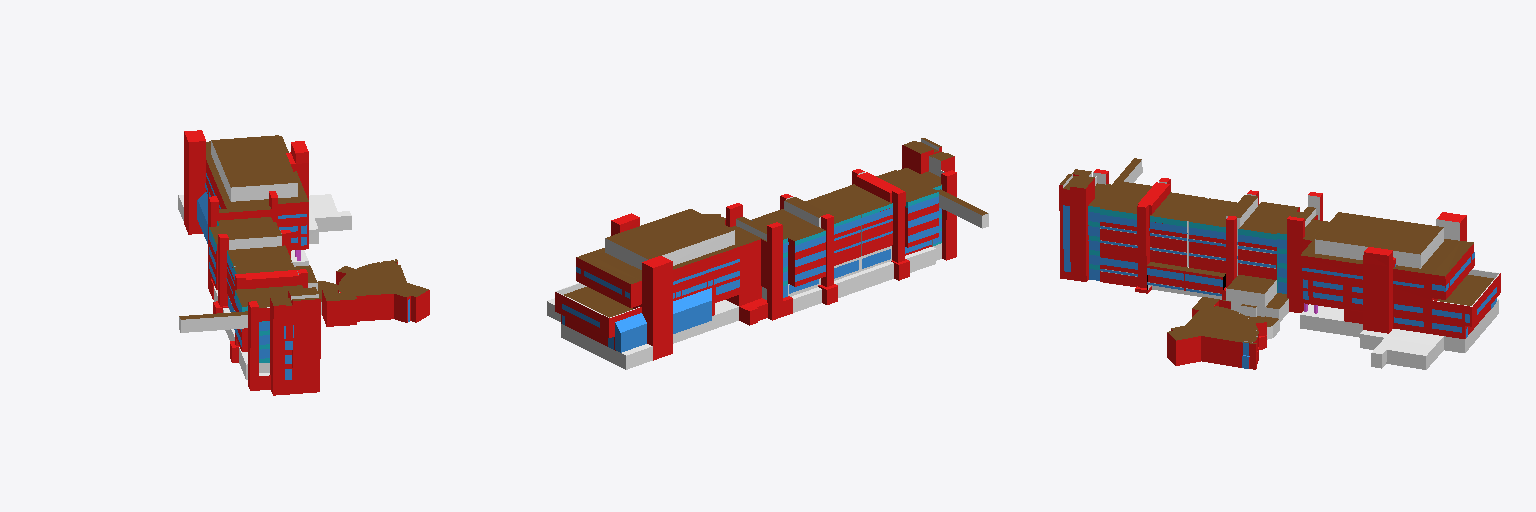
The model's file is BiologicalSciences.obj.
3 views of the same model, side by side, from view 1: azimuth 30°, elevation 25°; view 2: azimuth 150°, elevation 25°; view 3: azimuth 270°, elevation 25° (orthographic).
Parts seen in each view (by area): view 1: SM_Bio_Bldg, SM_Bio_Wndws; view 2: SM_Bio_Bldg, SM_Bio_Wndws; view 3: SM_Bio_Bldg, SM_Bio_Wndws.
Boxes of the visible parts, box(x1,y1,x2,y2) form: SM_Bio_Bldg: box(178, 130, 429, 395); SM_Bio_Wndws: box(197, 173, 409, 379); SM_Bio_Bldg: box(547, 138, 988, 369); SM_Bio_Wndws: box(562, 196, 941, 352); SM_Bio_Bldg: box(1059, 158, 1500, 369); SM_Bio_Wndws: box(1063, 205, 1496, 355).
Bounding box in the file's own units: 8553 × 2815 × 11036.